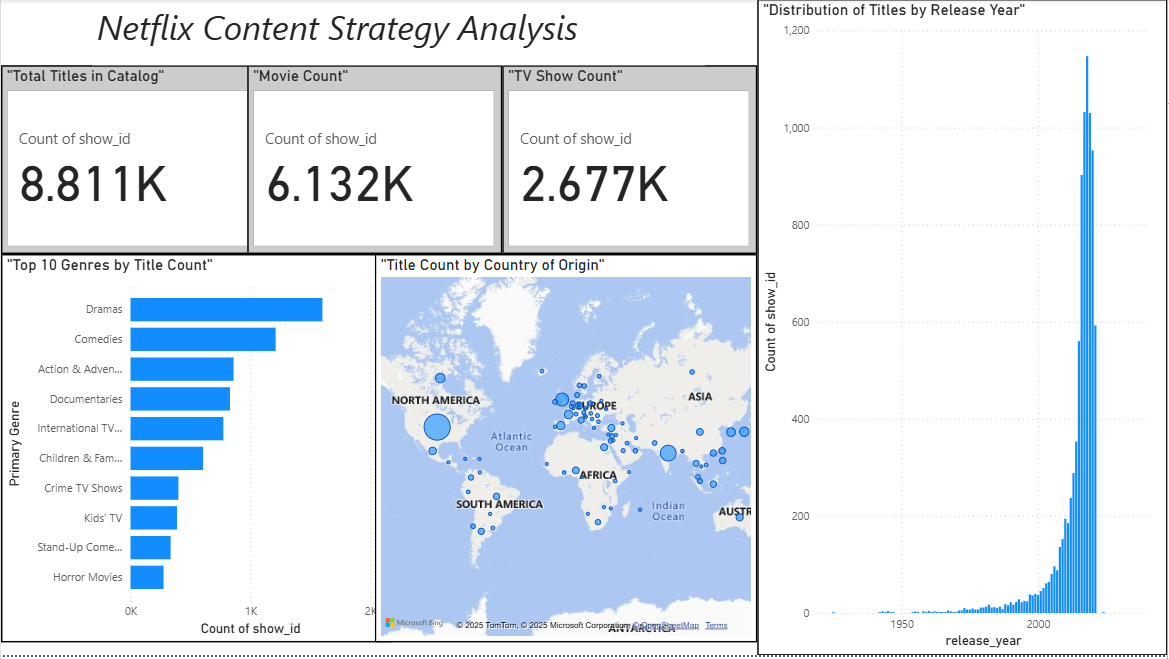

Layout of this report page (visuals, bound fields, positions):
{"tool":"powerbi","page":{"name":"Page 1","canvas":[1280,720],"ordinal":0},"visuals":[{"type":"cardVisual","title":"\"Total Titles in Catalog\"","fields":{"Data":["Count(netflix_titles.show_id)"]},"box":[0,72.7,279.9,207.2],"z":0},{"type":"cardVisual","title":"\"TV Show Count\"","fields":{"Data":["Count(netflix_titles.show_id)"]},"box":[550.3,72.7,279.9,207.2],"z":1000},{"type":"cardVisual","title":"\"Movie Count\"","fields":{"Data":["Count(netflix_titles.show_id)"]},"box":[270.3,72.7,279.9,207.2],"z":2000},{"type":"barChart","title":"\"Top 10 Genres by Title Count\"","fields":{"Category":["netflix_titles.Primary Genre"],"Y":["Count(netflix_titles.show_id)"]},"box":[0,279.9,428.1,426.8],"z":6000},{"type":"map","title":" \"Title Count by Country of Origin\"","fields":{"Category":["netflix_titles.Primary Country"],"Size":["Count(netflix_titles.show_id)"]},"box":[410.3,279.9,419.9,426.8],"z":7000},{"type":"clusteredColumnChart","title":"\"Distribution of Titles by Release Year\"","fields":{"Category":["netflix_titles.release_year"],"Y":["Count(netflix_titles.show_id)"]},"box":[830.2,0,450.1,720.4],"z":8000},{"type":"textbox","box":[100.2,0,672.4,72.7],"z":9000}]}

Visuals, with their boxes in screenshot pixels (x1, y1, x2, y2), scaled from the page's 1280x720 canvas onto the 1169x659 screenshot:
""Total Titles in Catalog"" cardVisual: 0 67 256 256
""TV Show Count"" cardVisual: 503 67 758 256
""Movie Count"" cardVisual: 247 67 502 256
""Top 10 Genres by Title Count"" barChart: 0 256 391 647
" "Title Count by Country of Origin"" map: 375 256 758 647
""Distribution of Titles by Release Year"" clusteredColumnChart: 758 0 1168 658
textbox: 92 0 706 67
